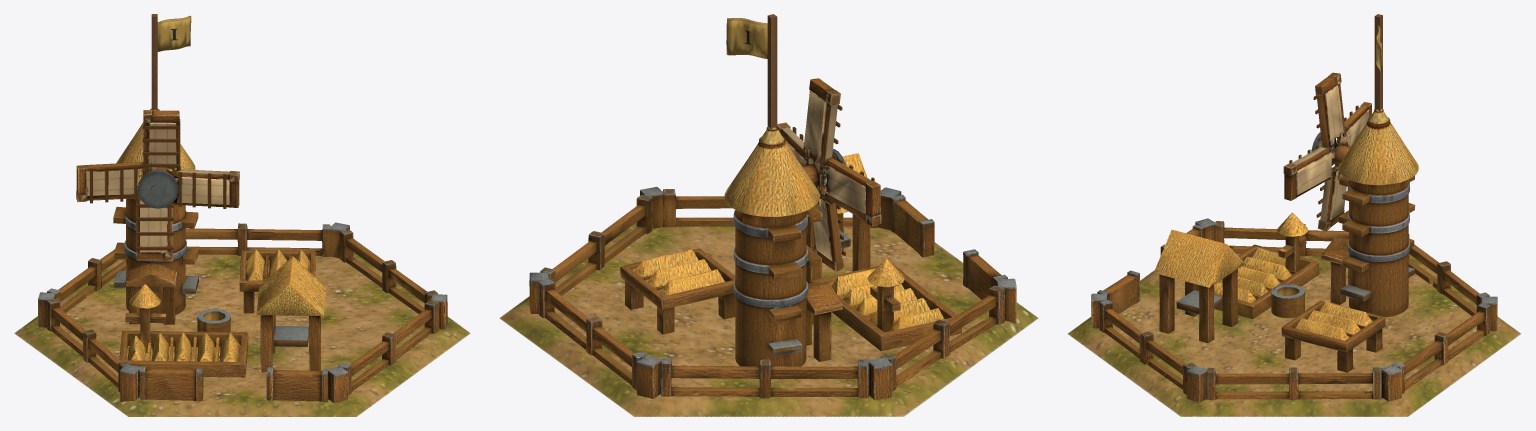
File: farm-1.glb
3 renders of one model, left to right at view 1: azimuth 30°, elevation 25°; view 2: azimuth 150°, elevation 25°; view 3: azimuth 270°, elevation 25°, orthographic. The views are drawn at different scales.
Parts seen in each view (by area): view 1: architecture, ground, rotor, tier-banner; view 2: architecture, ground, rotor, tier-banner; view 3: architecture, ground, rotor.
Boxes of the visible parts, box(x1,y1,x2,y2) form: architecture: box(38, 14, 447, 402); ground: box(14, 252, 470, 416); rotor: box(76, 110, 239, 261); tier-banner: box(157, 16, 191, 51); architecture: box(529, 14, 1016, 400); ground: box(499, 222, 1038, 416); rotor: box(777, 78, 881, 271); tier-banner: box(726, 18, 767, 58); architecture: box(1091, 14, 1497, 402); ground: box(1068, 253, 1520, 416); rotor: box(1283, 72, 1371, 231).
Bounding box in the file's own units: 1.59 × 1.32 × 1.84.
Materials: 3 (3 with a texture image).
